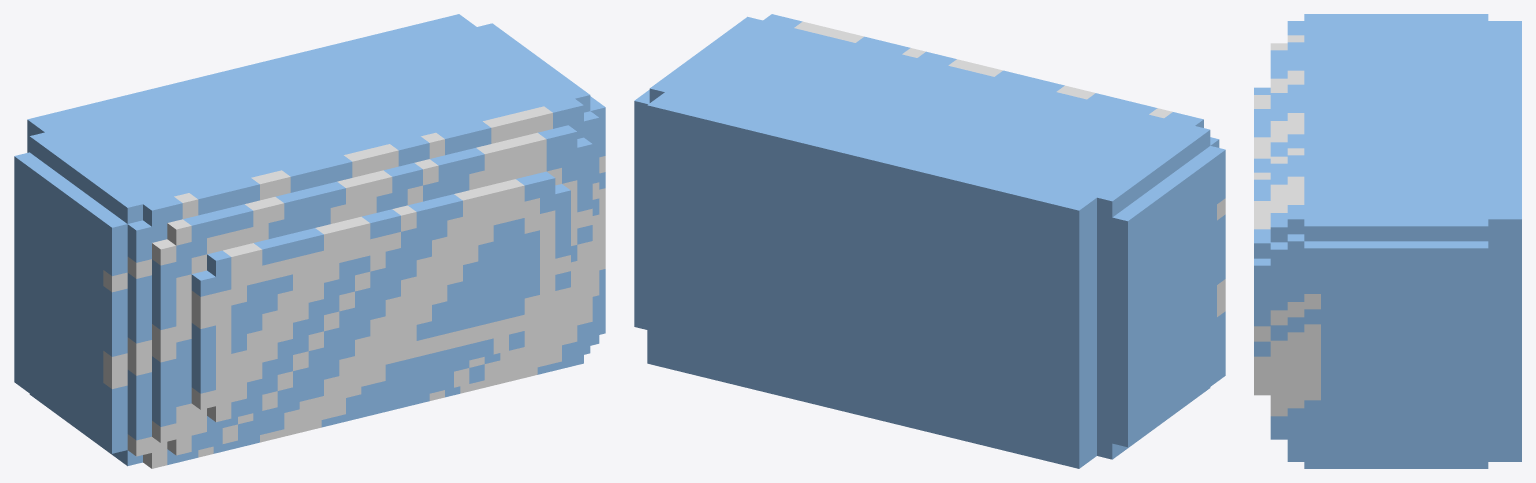
File: icewall.obj
3 views of the same model, side by side, from view 1: azimuth 30°, elevation 25°; view 2: azimuth 150°, elevation 25°; view 3: azimuth 270°, elevation 25° (orthographic). The views are drawn at different scales.
Size of the model in its own units: 32 by 16 by 16.
